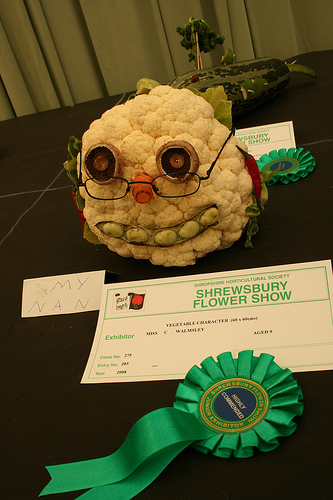cauliflower: (75, 85, 255, 267)
